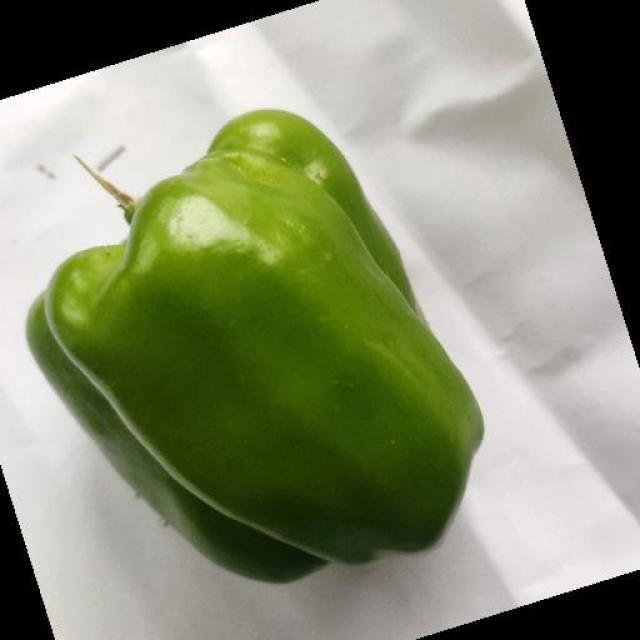Fresh_Capsicum: (36, 145, 535, 553)
